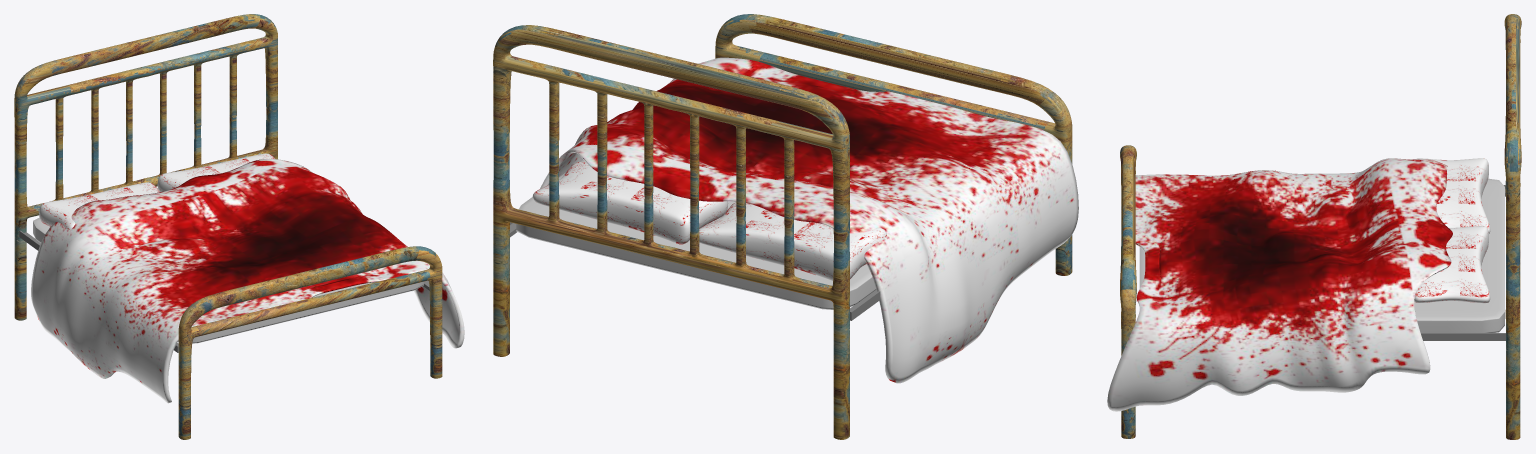
File: new cama.fbx
The picture shows the model from 3 angles, left to right: view 1: azimuth 30°, elevation 25°; view 2: azimuth 150°, elevation 25°; view 3: azimuth 270°, elevation 25°; orthographic projection. The views are drawn at different scales.
Visible parts, largest first — view 1: Grid, Cube, Cube.002, Cube.003, Cube.004; view 2: Grid, Cube, Cube.002, Cube.004, Cube.003; view 3: Grid, Cube, Cube.002, Cube.004, Cube.003, Cube.001.
Boxes of the visible parts, x1,y1,x2,y2 form: Grid: (31,159,464,403); Cube: (14,14,442,439); Cube.002: (33,188,423,343); Cube.003: (39,182,159,229); Cube.004: (157,153,274,191); Grid: (540,57,1078,383); Cube: (493,14,1072,439); Cube.002: (516,159,876,309); Cube.004: (532,162,728,244); Cube.003: (699,202,886,280); Grid: (1107,158,1452,411); Cube: (1120,14,1521,439); Cube.002: (1139,178,1504,332); Cube.004: (1414,226,1490,303); Cube.003: (1417,158,1490,233); Cube.001: (1420,185,1505,340).
Bounding box in the file's own units: 409 × 326 × 421.
